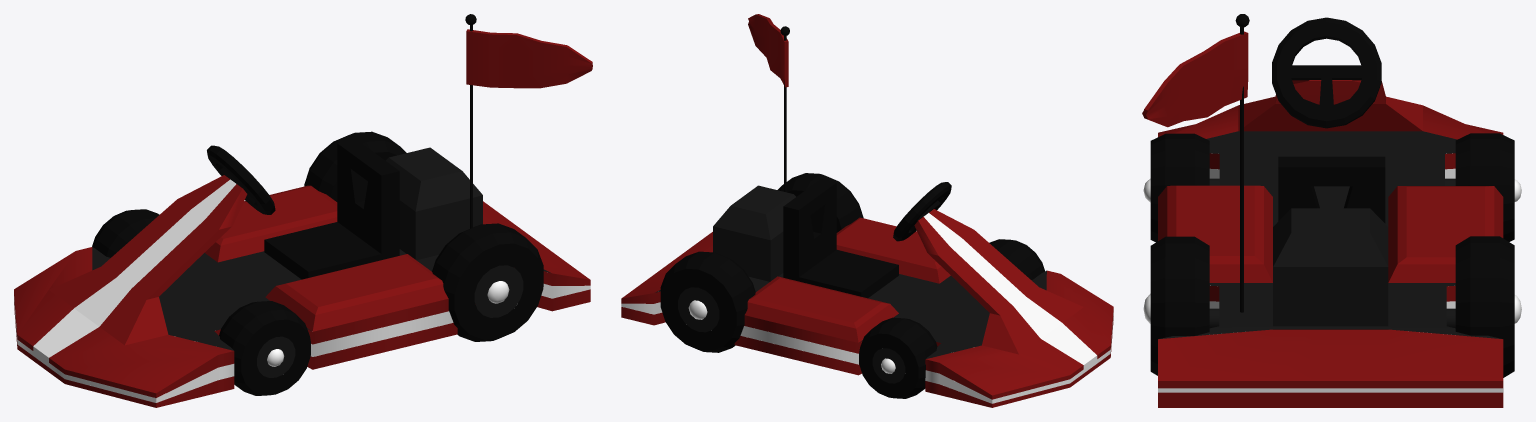
File: Men_accessory_Kart_ry50d704566_s2_3000.543d1fa1.glb
3 views of the same model, side by side, from view 1: azimuth 30°, elevation 25°; view 2: azimuth 150°, elevation 25°; view 3: azimuth 270°, elevation 25° (orthographic). The views are drawn at different scales.
Parts seen in each view (by area): view 1: Box001; view 2: Box001; view 3: Box001.
Boxes of the visible parts, x1,y1,x2,y2 form: Box001: [14, 14, 592, 407]; Box001: [621, 14, 1113, 407]; Box001: [1142, 14, 1521, 407].
Size of the model in its own units: 72.53 by 43.6 by 41.04.
